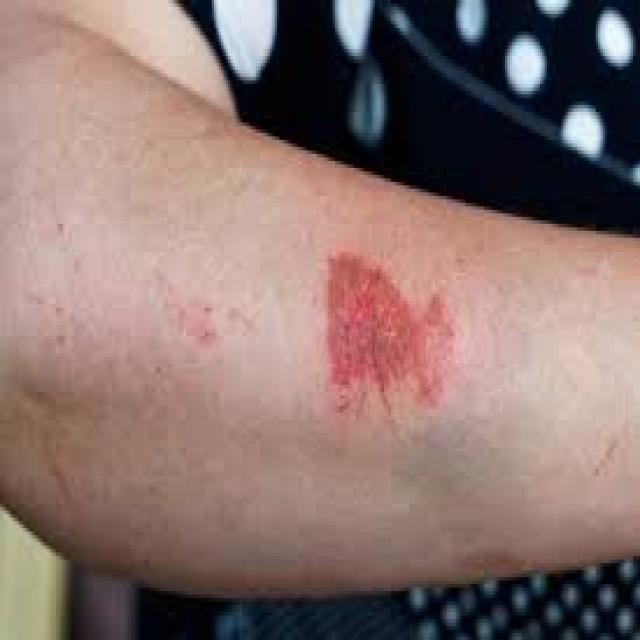Cut: (312, 234, 458, 427)
